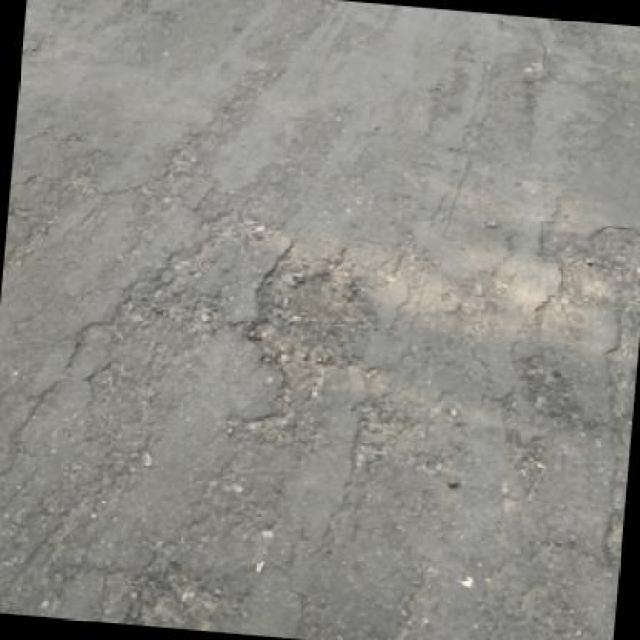pothole1: (241, 248, 393, 398), (124, 558, 248, 632), (556, 211, 638, 306)
